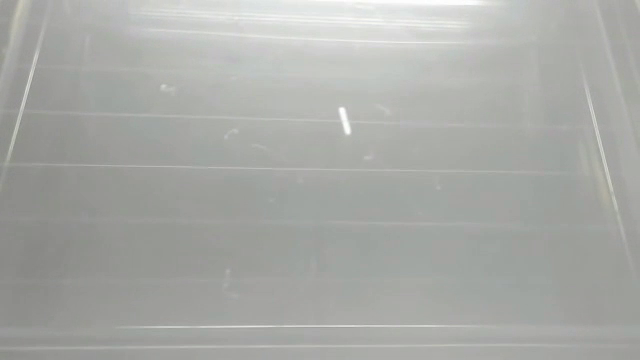alpha: (334, 102, 356, 138)
